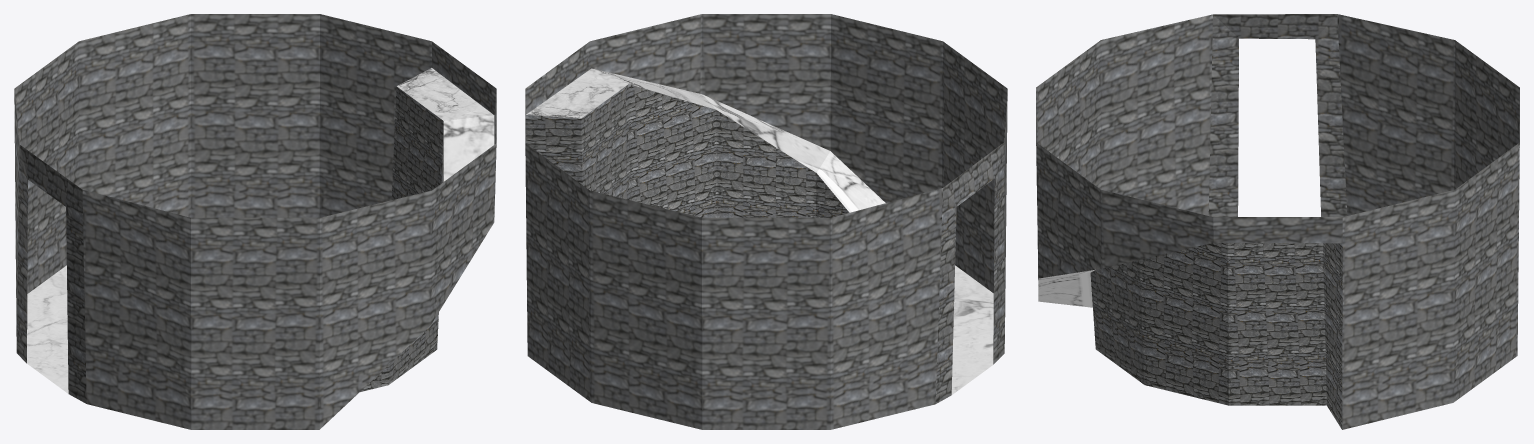
The model's file is tower_inner_wall.fbx.
3 renders of one model, left to right at view 1: azimuth 30°, elevation 25°; view 2: azimuth 150°, elevation 25°; view 3: azimuth 270°, elevation 25°, orthographic.
Visible parts, largest first — view 1: MESH_inner_wall; view 2: MESH_inner_wall; view 3: MESH_inner_wall.
Boxes of the visible parts, x1,y1,x2,y2 form: MESH_inner_wall: (14,14,496,429); MESH_inner_wall: (525,14,1007,429); MESH_inner_wall: (1036,14,1519,429).
Size of the model in its own units: 5608 by 2735 by 5608.
